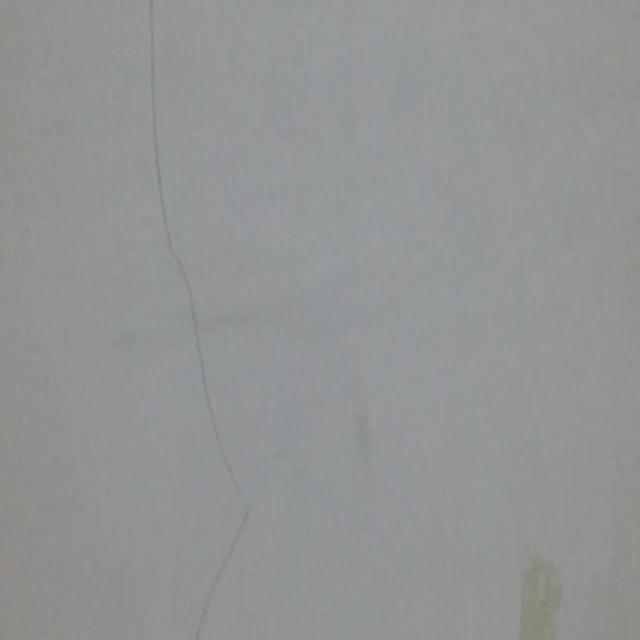Crack: (145, 0, 276, 636)
